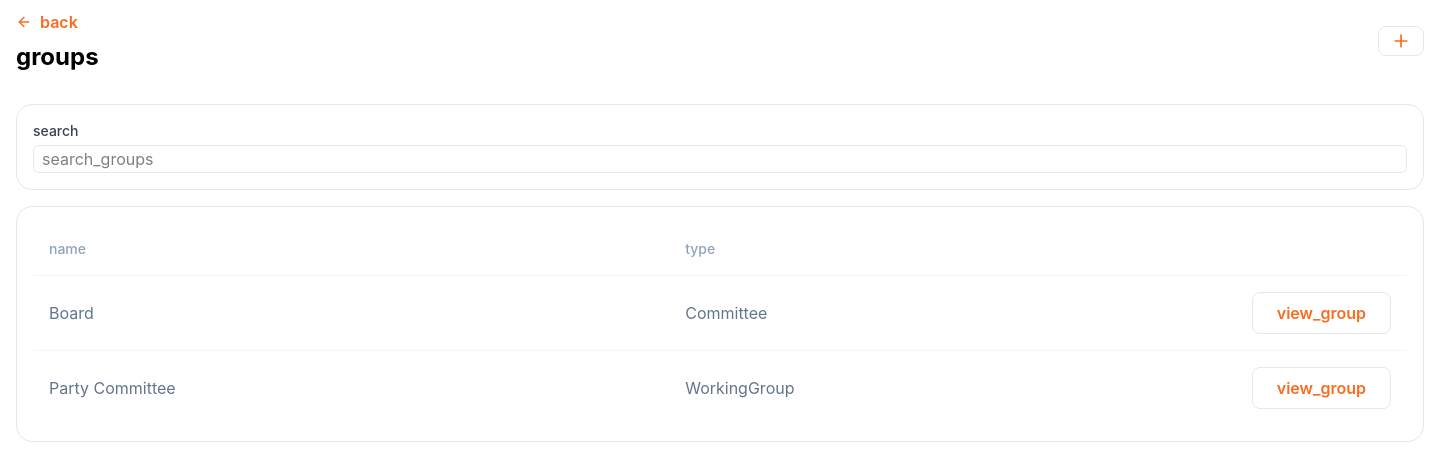
Test case: Groups › filters groups by name or type as the search query changes
Check: the text "Board" is shown, box [49,301,94,325]
Type "working" into the field labelled "search" at point(720, 159), box [33,145,1407,173]
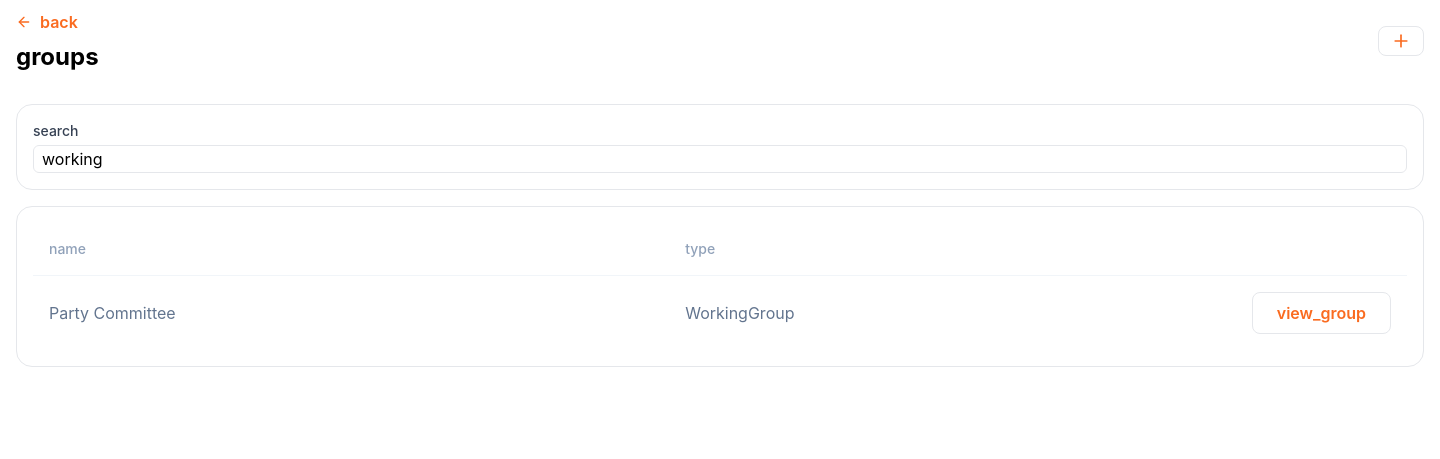
Check: the text "Board" is gone
Check: the text "Party Committee" is shown, box [49,301,176,325]
